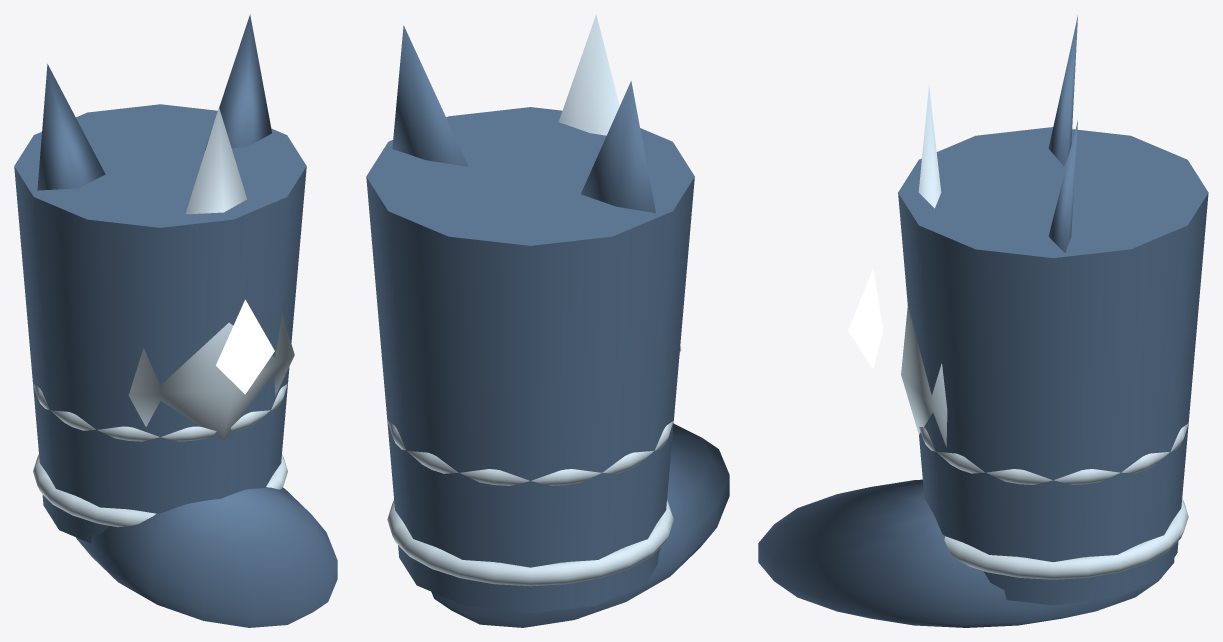
File: boss_winter_court_boots_1.glb
The picture shows the model from 3 angles, left to right: view 1: azimuth 30°, elevation 25°; view 2: azimuth 150°, elevation 25°; view 3: azimuth 270°, elevation 25°; orthographic projection. The views are drawn at different scales.
Parts seen in each view (by area): view 1: Boss_winter_court_0, Boss_winter_court_1, Boss_winter_court_2; view 2: Boss_winter_court_0, Boss_winter_court_1; view 3: Boss_winter_court_0, Boss_winter_court_1, Boss_winter_court_2.
Part boxes in pixels (x1=…): Boss_winter_court_0: x1=14, y1=14, x2=337, y2=627; Boss_winter_court_1: x1=33, y1=108, x2=294, y2=527; Boss_winter_court_2: x1=216, y1=299, x2=274, y2=394; Boss_winter_court_0: x1=366, y1=25, x2=729, y2=627; Boss_winter_court_1: x1=387, y1=14, x2=681, y2=586; Boss_winter_court_0: x1=758, y1=15, x2=1208, y2=627; Boss_winter_court_1: x1=901, y1=85, x2=1188, y2=579; Boss_winter_court_2: x1=848, y1=268, x2=883, y2=368.
Bounding box in the file's own units: 0.25 × 0.482 × 0.3624.
